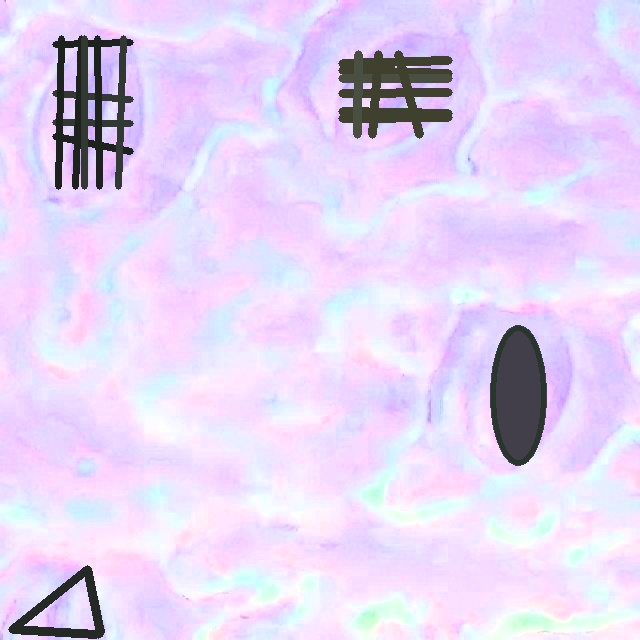open: (52, 35, 133, 189), (339, 50, 452, 137), (491, 324, 546, 465), (8, 565, 104, 638)
